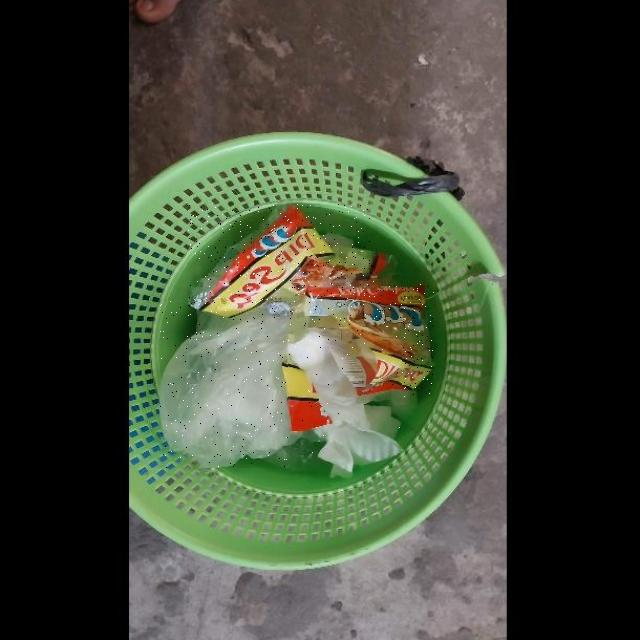paper: (289, 327, 402, 477)
plastic: (159, 300, 304, 467)
wrapper: (188, 204, 374, 316), (288, 284, 434, 397), (282, 358, 332, 431)
